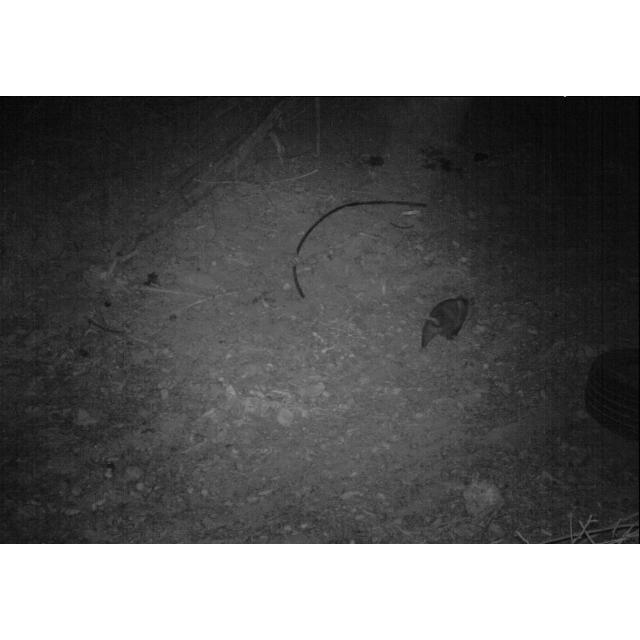animals: (418, 294, 472, 356)
